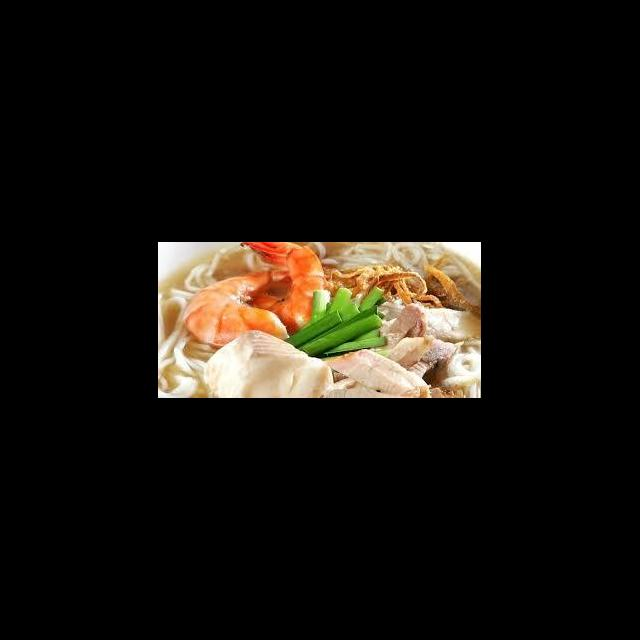bun: (160, 246, 230, 398), (310, 243, 480, 294)
ca: (200, 325, 338, 398)
thit heo quay: (344, 333, 436, 398), (322, 345, 434, 398), (370, 298, 430, 361), (321, 375, 412, 398)
tom: (182, 266, 306, 350), (234, 243, 330, 337)
